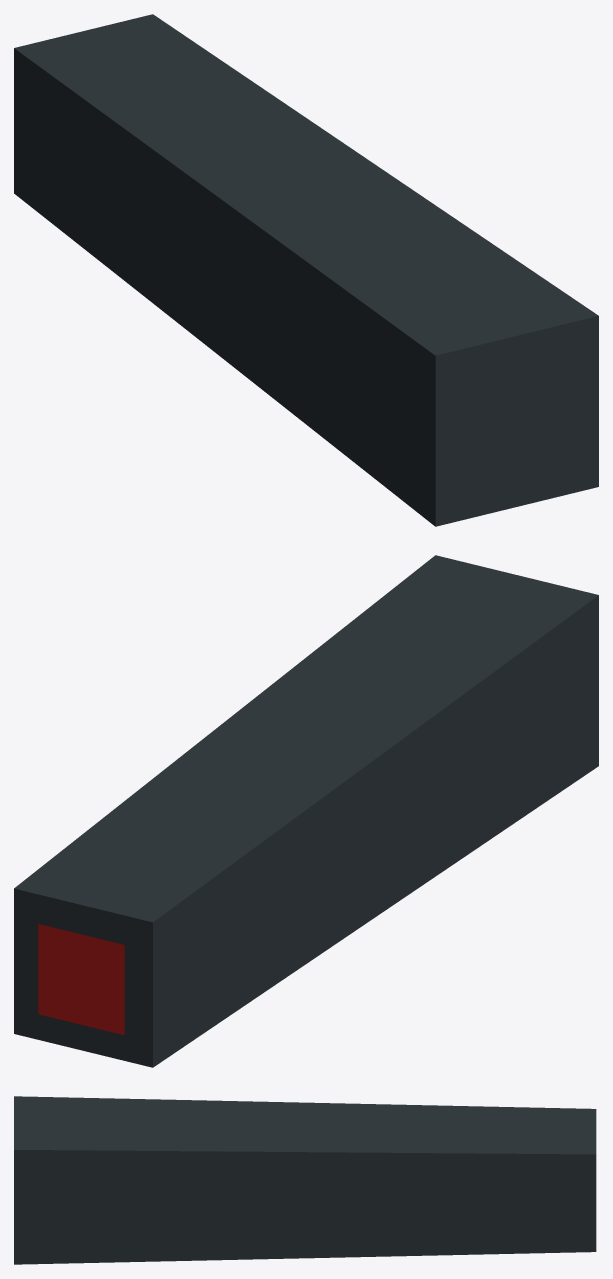
3 views of the same model, one above another, from view 1: azimuth 30°, elevation 25°; view 2: azimuth 150°, elevation 25°; view 3: azimuth 270°, elevation 25° (orthographic). The views are drawn at different scales.
Visible parts, largest first — view 1: mount; view 2: mount; view 3: mount.
Part boxes in pixels (bbox=[...]): mount: bbox=[14, 14, 598, 526]; mount: bbox=[14, 555, 598, 1067]; mount: bbox=[14, 1096, 596, 1264].
Bounding box in the file's own units: 1.41 × 1.41 × 6.53.
